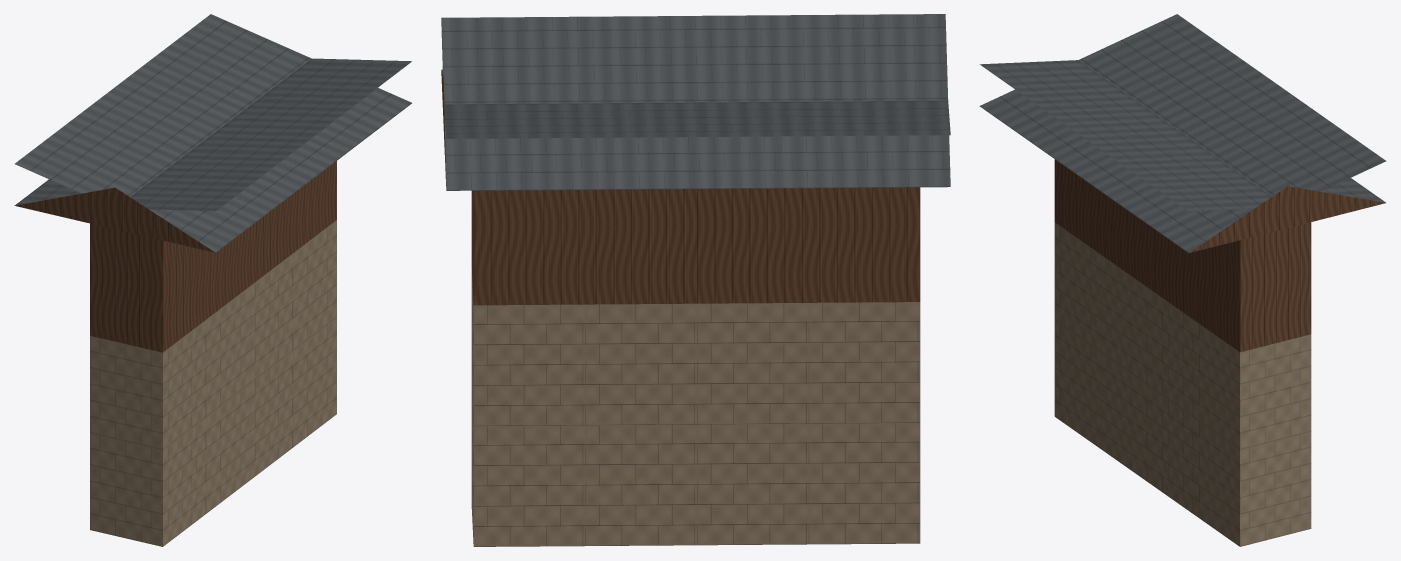
The model's file is bld_c1_21_499.gltf.
3 views of the same model, side by side, from view 1: azimuth 30°, elevation 25°; view 2: azimuth 150°, elevation 25°; view 3: azimuth 270°, elevation 25° (orthographic). The views are drawn at different scales.
Visible parts, largest first — view 1: bld_c1_21_499; view 2: bld_c1_21_499; view 3: bld_c1_21_499.
Part boxes in pixels (x1,y1,x2,y2): bld_c1_21_499: (14, 14, 411, 546); bld_c1_21_499: (441, 14, 950, 546); bld_c1_21_499: (979, 14, 1386, 546).
Bounding box in the file's own units: 10.12 × 8.6 × 8.82.
Materials: 4 (4 with a texture image).
